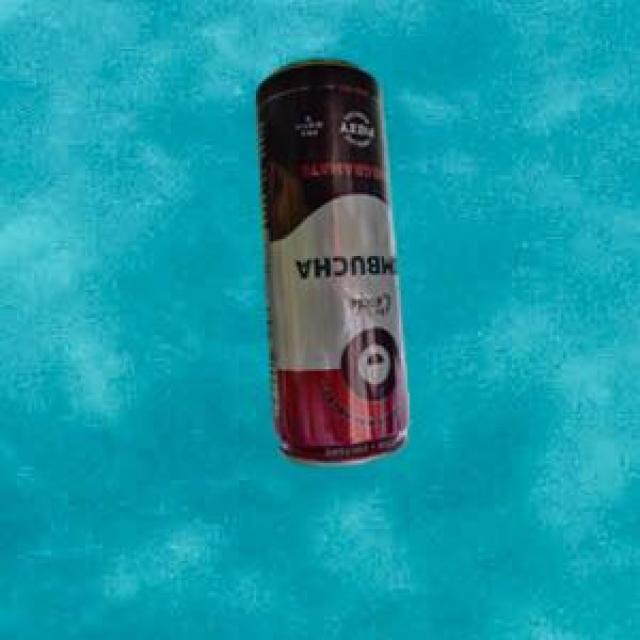logam: (253, 57, 406, 462)
